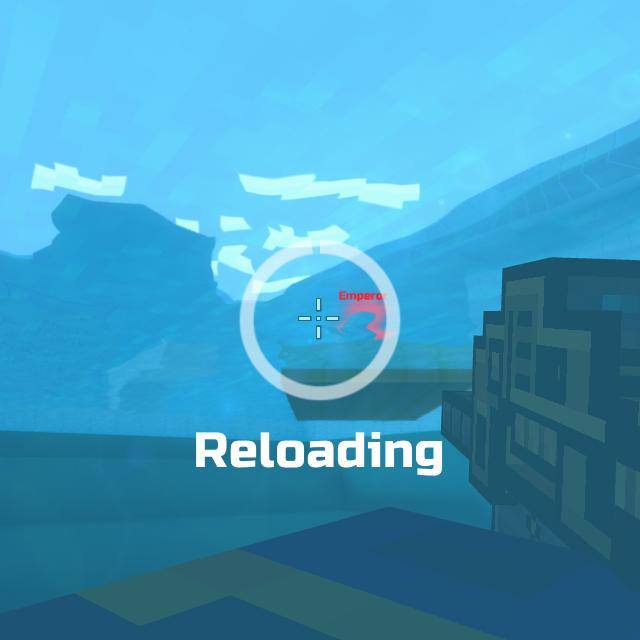Enemy: (344, 309, 383, 337)
